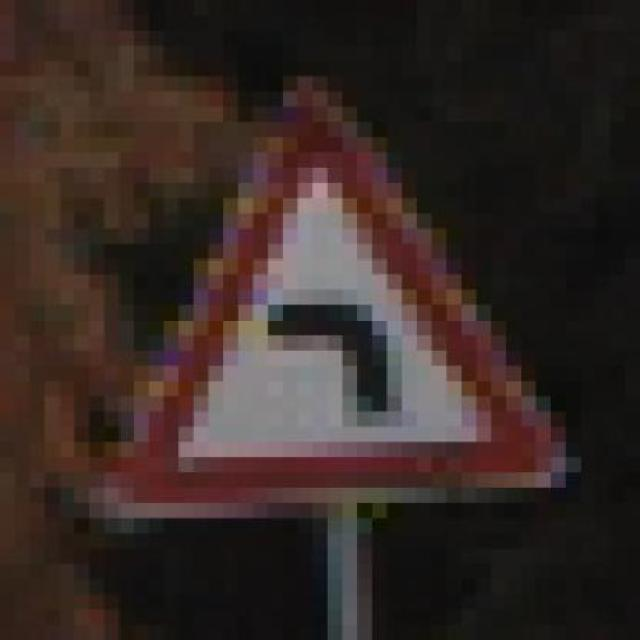Dangerous Left Curve Ahead: (89, 76, 566, 533)
